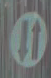Two way: (6, 1, 46, 70)
